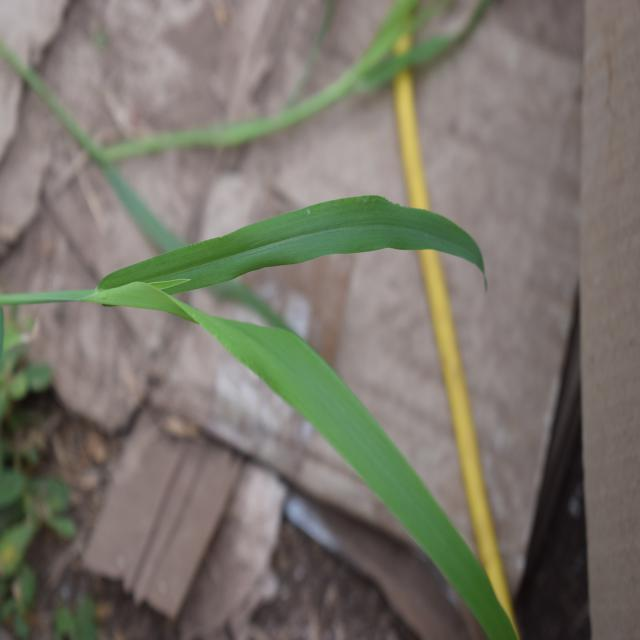crabgrass: (73, 190, 520, 616)
